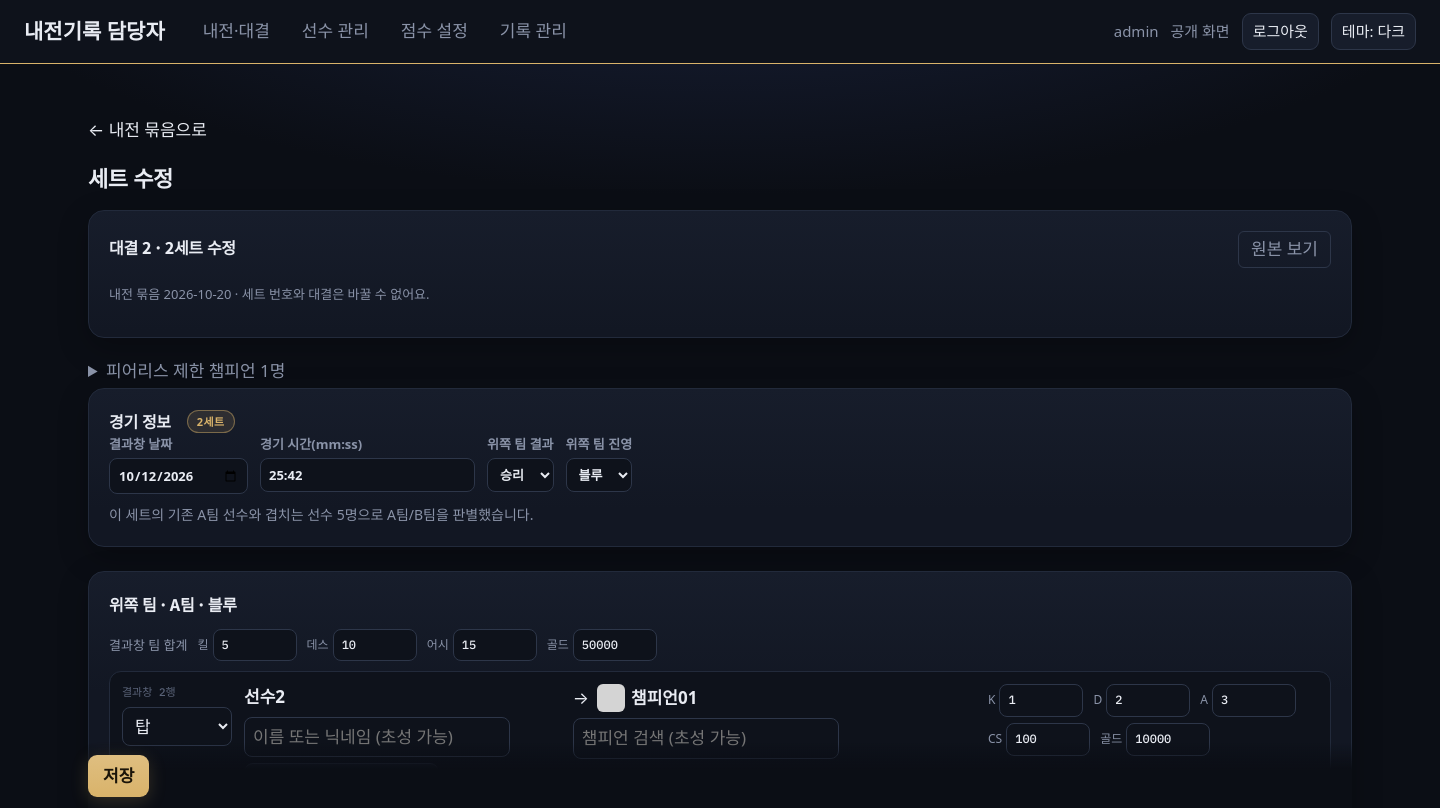
SetEditPage › 저장하면 PUT 후 세트 상세로 이동하고 경고를 보여 준다
Click the button "저장": (119, 777) [88, 756, 149, 798]
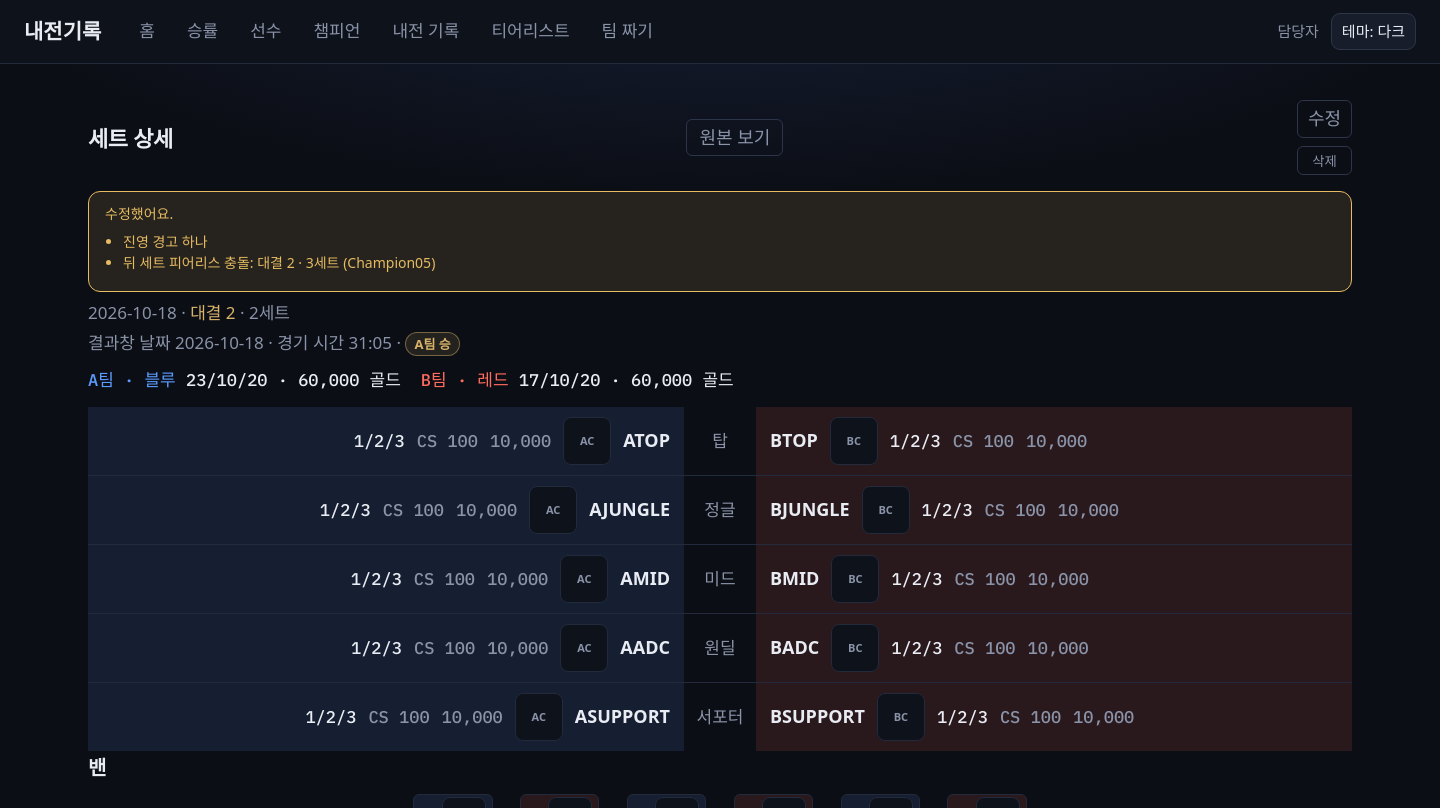
Expected: the message named "수정 결과" shows "진영 경고 하나", [123, 232, 208, 251]
Expected: the message named "수정 결과" shows "대결 2 · 3세트", [88, 191, 1352, 292]
